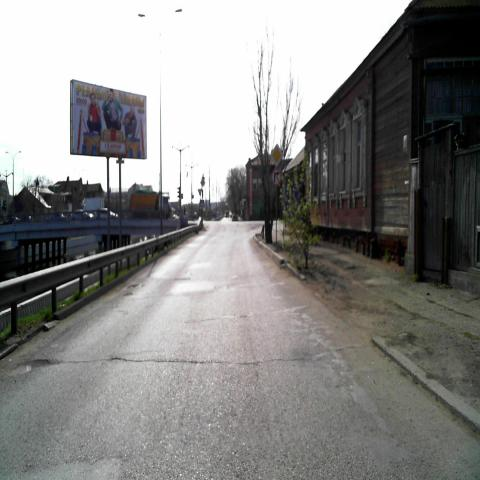2_1: (270, 143, 284, 167)
3_18: (272, 168, 282, 186)
